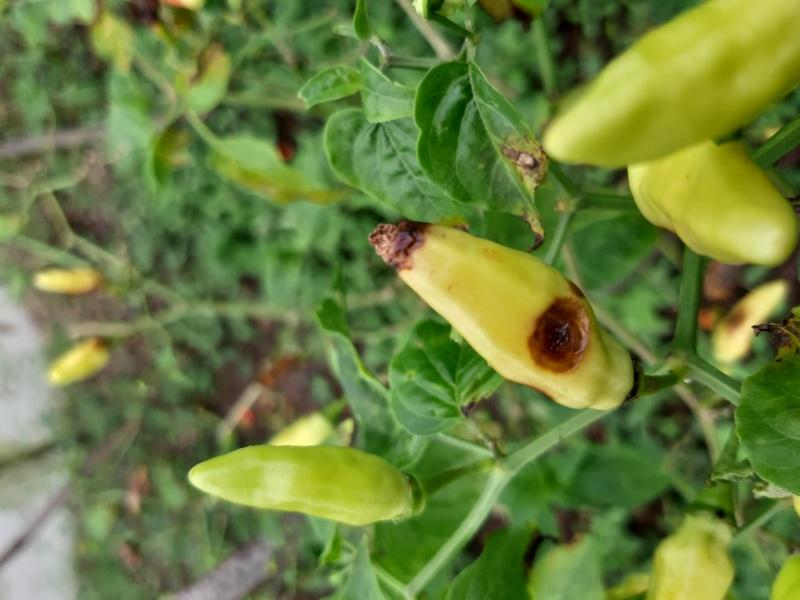antraknosa: (368, 220, 630, 409)
cabai_normal: (550, 1, 798, 169), (630, 139, 794, 267), (186, 446, 410, 524)
